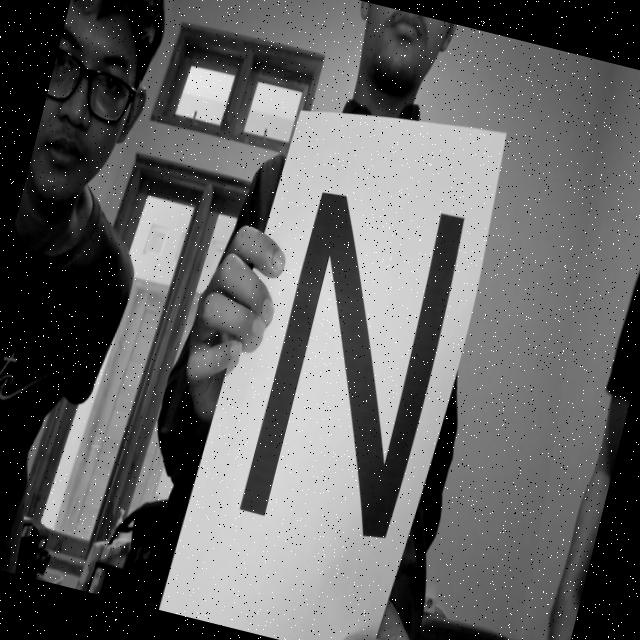n: (204, 162, 492, 587)
